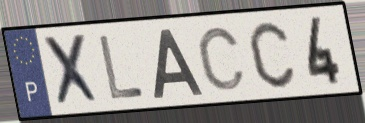4: (306, 14, 344, 88)
A: (152, 26, 206, 101)
C: (246, 19, 298, 91), (195, 25, 248, 93)
L: (96, 33, 147, 102)
X: (39, 32, 105, 110)
